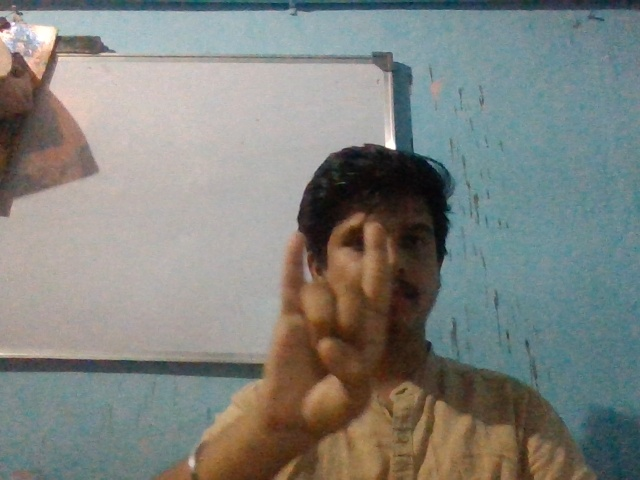Apana: (242, 209, 388, 434)
